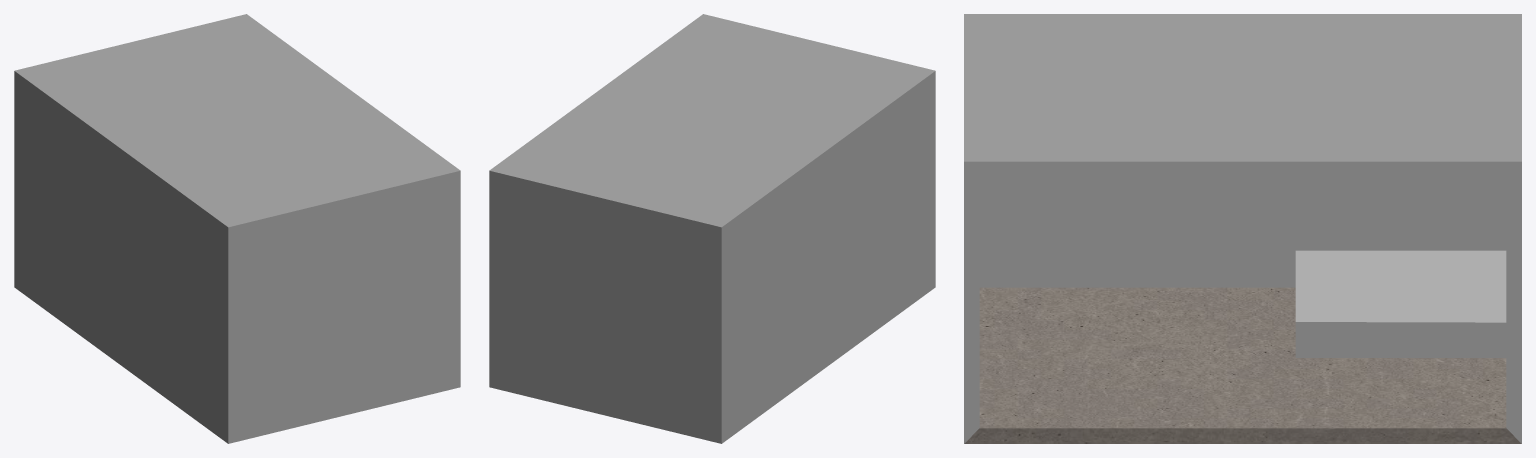
Rendered from Room_RightPlatform.fbx.
3 views of the same model, side by side, from view 1: azimuth 30°, elevation 25°; view 2: azimuth 150°, elevation 25°; view 3: azimuth 270°, elevation 25° (orthographic). The views are drawn at different scales.
Visible parts, largest first — view 1: Room_RightPlatform; view 2: Room_RightPlatform; view 3: Room_RightPlatform.
Boxes of the visible parts, left/top/right/bottom form: Room_RightPlatform: left=14, top=14, right=460, bottom=443; Room_RightPlatform: left=489, top=14, right=935, bottom=443; Room_RightPlatform: left=964, top=14, right=1521, bottom=443.
Size of the model in its own units: 4.33 by 3.86 by 6.91.
Materials: 3 (2 with a texture image).
